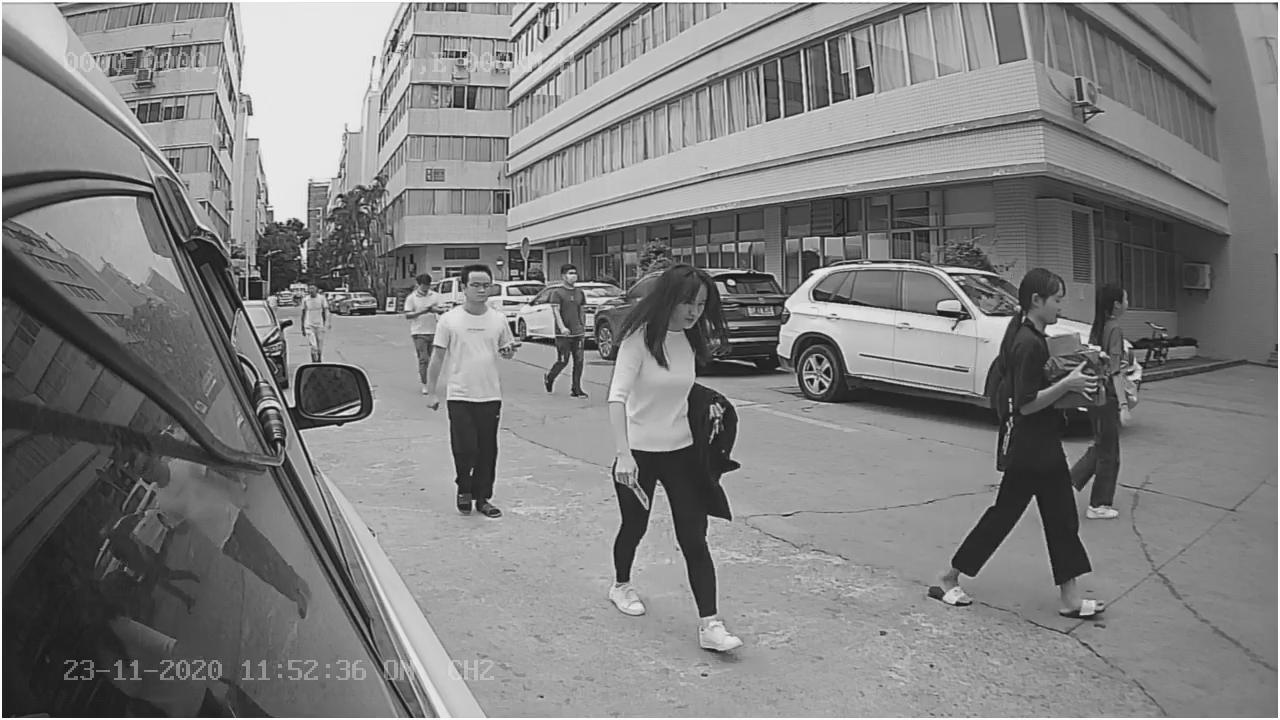person: (609, 268, 731, 651), (421, 264, 513, 515)
